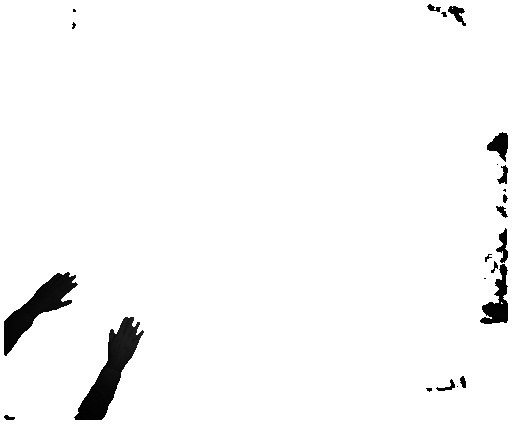hand: (30, 272, 79, 316), (108, 312, 143, 368)
